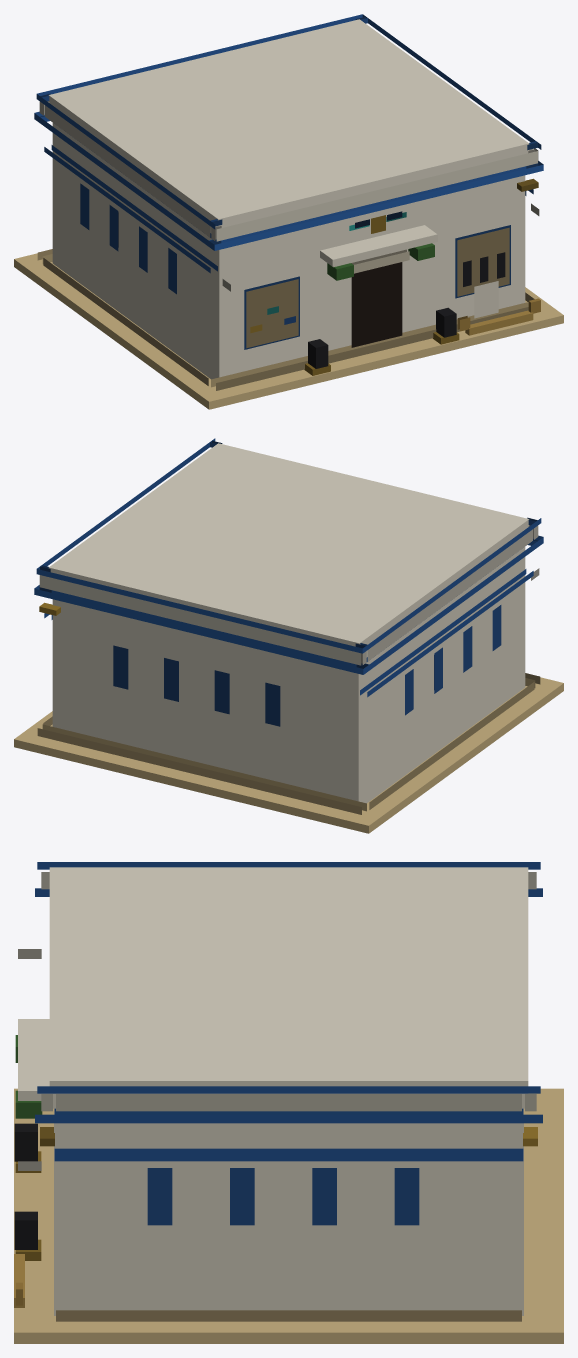
Rendered from EgyptianCatSil.fbx.
3 renders of one model, top to bottom at view 1: azimuth 30°, elevation 25°; view 2: azimuth 150°, elevation 25°; view 3: azimuth 270°, elevation 25°, orthographic. The views are drawn at different scales.
Parts seen in each view (by area): view 1: BS_S_All; view 2: BS_S_All; view 3: BS_S_All.
Boxes of the visible parts, x1,y1,x2,y2 form: BS_S_All: (14,14,563,409); BS_S_All: (14,438,563,833); BS_S_All: (14,862,563,1343).
Size of the model in its own units: 42.04 by 19.9 by 40.04.
